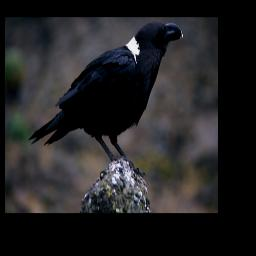Crow: (28, 21, 184, 180)
